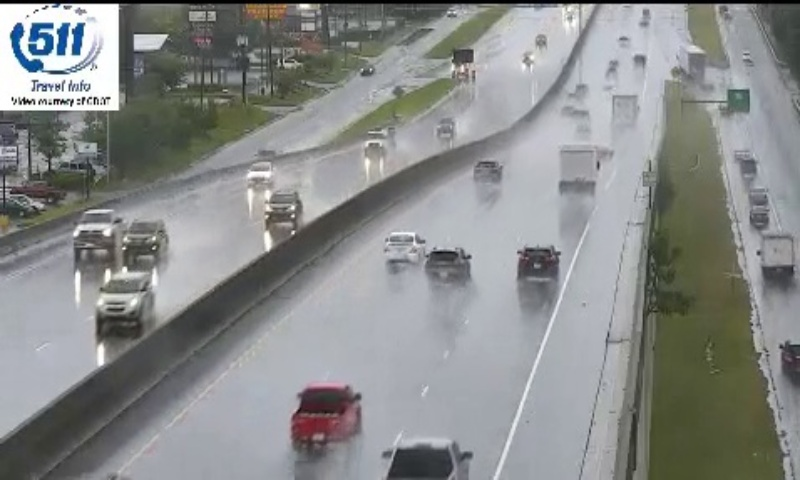car: (289, 380, 361, 443), (426, 247, 470, 280), (517, 245, 558, 278), (383, 232, 423, 262)
small-truck: (557, 144, 597, 196)
